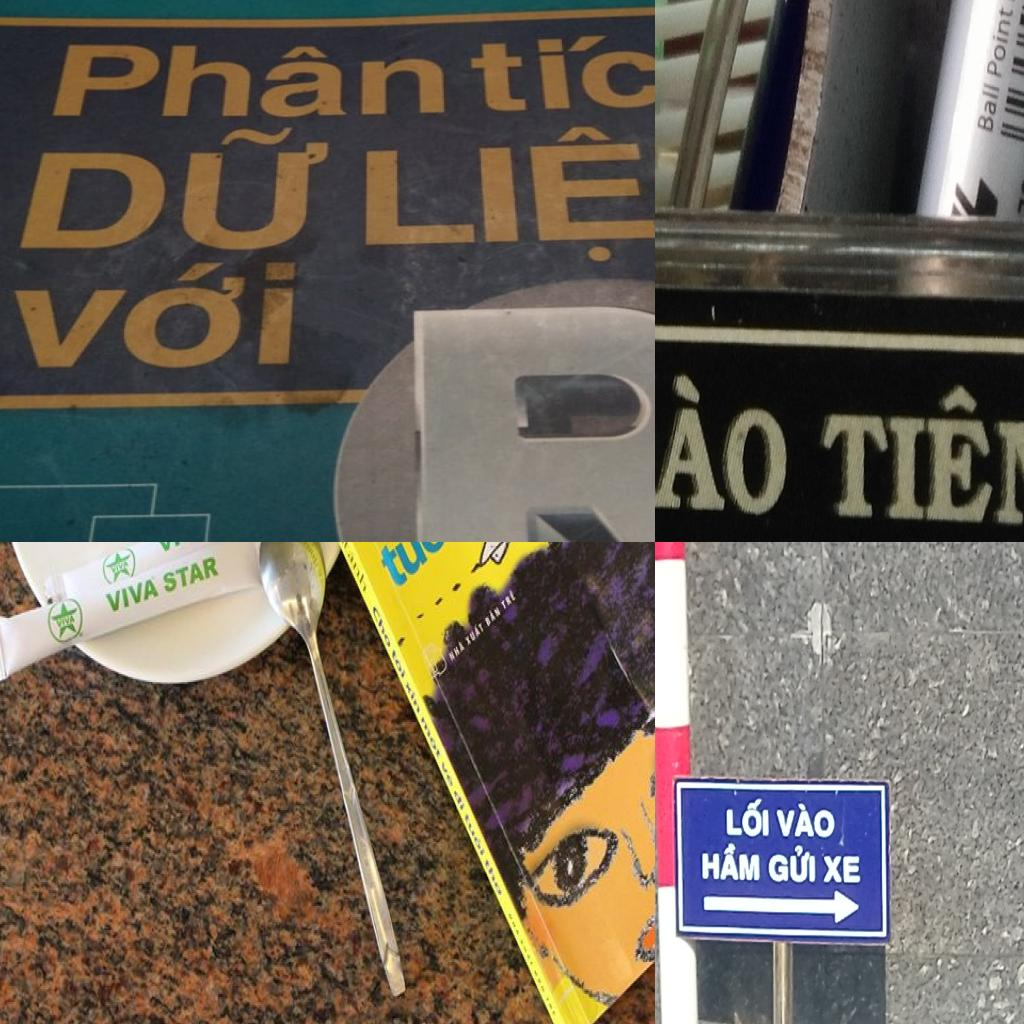text: (408, 302, 655, 542), (361, 116, 655, 271), (17, 124, 342, 254), (3, 259, 300, 373), (47, 42, 451, 122), (818, 378, 1024, 533), (655, 364, 792, 521), (469, 25, 655, 114), (372, 542, 462, 597), (700, 840, 763, 884), (982, 3, 1017, 82), (163, 549, 220, 597), (774, 799, 838, 841), (104, 572, 162, 616), (767, 843, 818, 886), (724, 796, 771, 840), (974, 79, 1003, 138), (345, 546, 372, 597), (463, 810, 488, 860), (419, 714, 443, 765), (371, 604, 393, 652), (483, 856, 505, 900), (404, 677, 423, 717), (390, 646, 409, 684), (463, 618, 485, 648), (439, 756, 456, 790), (1013, 171, 1024, 222), (484, 602, 503, 631), (451, 786, 468, 815), (448, 639, 466, 666), (500, 586, 518, 613), (54, 610, 79, 629), (110, 556, 133, 574), (325, 542, 351, 554)
